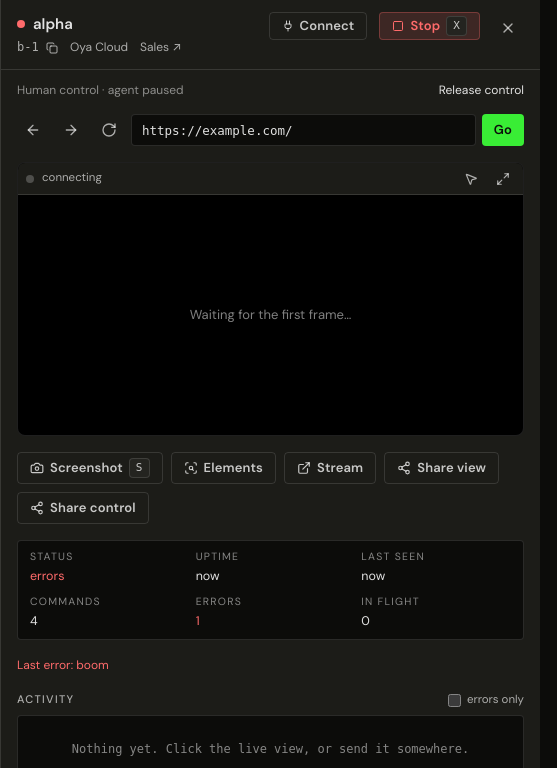
Test case: BrowserPanel › navigates to what was typed once a person holds control
Replace the text in the field named "Navigate to URL" with "https://next.test" at (303, 130), box top-left (131, 114), bottom-right (476, 146)
Then press Enter
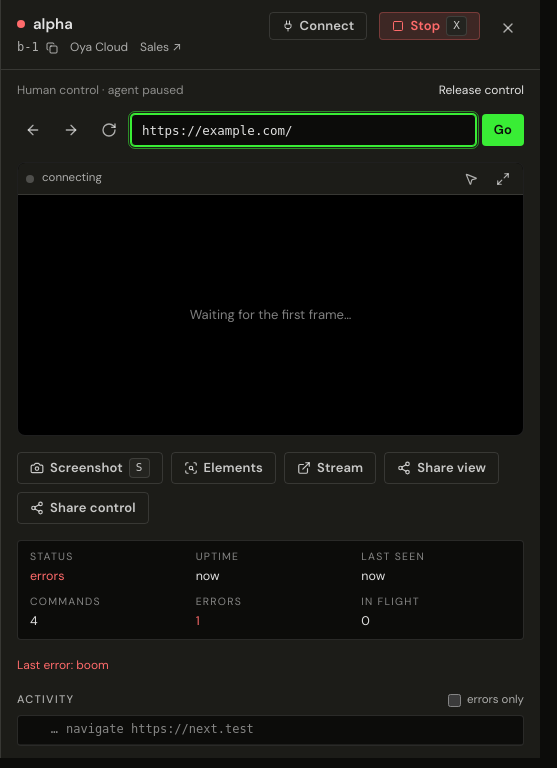
Now the text "navigate https://next.test" is shown, box top-left (66, 720), bottom-right (254, 740)
